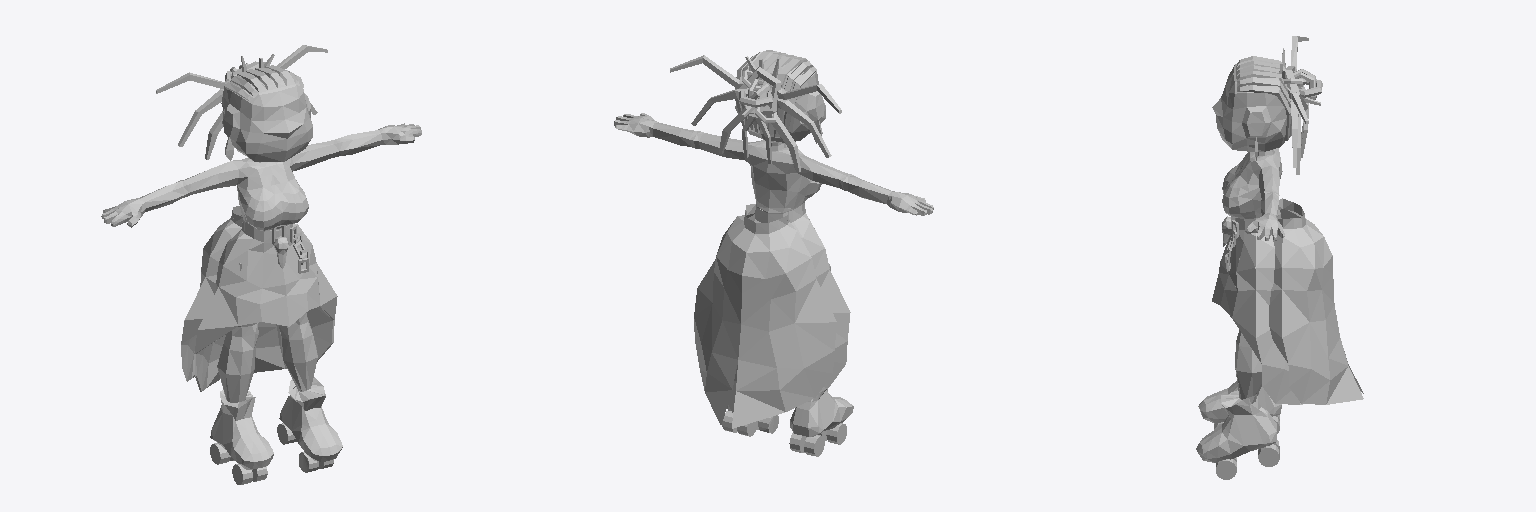
File: WitchFINAL_000003.obj
3 renders of one model, left to right at view 1: azimuth 30°, elevation 25°; view 2: azimuth 150°, elevation 25°; view 3: azimuth 270°, elevation 25°, orthographic.
Parts seen in each view (by area): view 1: Body_Cylinder, Torso(Boobies)_Cylinder.002, LegR_Cube.004, LegL_Cube.003, Head_Cylinder.004, ZBody_Cylinder.001, Hair_Cylinder.006, Tail.001_Torus.001; view 2: ZBody_Cylinder.001, Torso(Boobies)_Cylinder.002, Body_Cylinder, LegR_Cube.004, Hair_Cylinder.006, Tail.001_Torus.001, Tail_Torus, Tail.002_Torus.002, Head_Cylinder.004, LegL_Cube.003; view 3: ZBody_Cylinder.001, Body_Cylinder, LegL_Cube.003, Torso(Boobies)_Cylinder.002, Head_Cylinder.004, Hair_Cylinder.006, LegR_Cube.004, Tail_Torus, Tail.002_Torus.002.
Part boxes in pixels (x1,y1,x2,y2): Body_Cylinder: (194, 220, 337, 391); Torso(Boobies)_Cylinder.002: (101, 123, 421, 230); LegR_Cube.004: (210, 263, 273, 484); LegL_Cube.003: (277, 257, 342, 472); Head_Cylinder.004: (222, 68, 312, 161); ZBody_Cylinder.001: (181, 206, 242, 381); Hair_Cylinder.006: (221, 65, 303, 110); Tail.001_Torus.001: (156, 72, 234, 159); ZBody_Cylinder.001: (694, 204, 836, 428); Torso(Boobies)_Cylinder.002: (614, 113, 933, 215); Body_Cylinder: (728, 203, 850, 412); LegR_Cube.004: (789, 389, 853, 456); Hair_Cylinder.006: (735, 50, 816, 138); Tail.001_Torus.001: (755, 84, 841, 172); Tail_Torus: (739, 56, 781, 122); Tail.002_Torus.002: (670, 55, 755, 157); Head_Cylinder.004: (735, 58, 825, 142); LegL_Cube.003: (722, 405, 778, 436); ZBody_Cylinder.001: (1269, 198, 1363, 404); Body_Cylinder: (1212, 213, 1302, 404); LegL_Cube.003: (1196, 256, 1279, 479); Torso(Boobies)_Cylinder.002: (1222, 147, 1284, 240); Head_Cylinder.004: (1212, 63, 1288, 151); Hair_Cylinder.006: (1236, 56, 1298, 140); LegR_Cube.004: (1198, 381, 1281, 433); Tail_Torus: (1279, 48, 1322, 110); Tail.002_Torus.002: (1288, 88, 1308, 174).
Bounding box in the file's own units: 13.76 × 16.76 × 6.35.